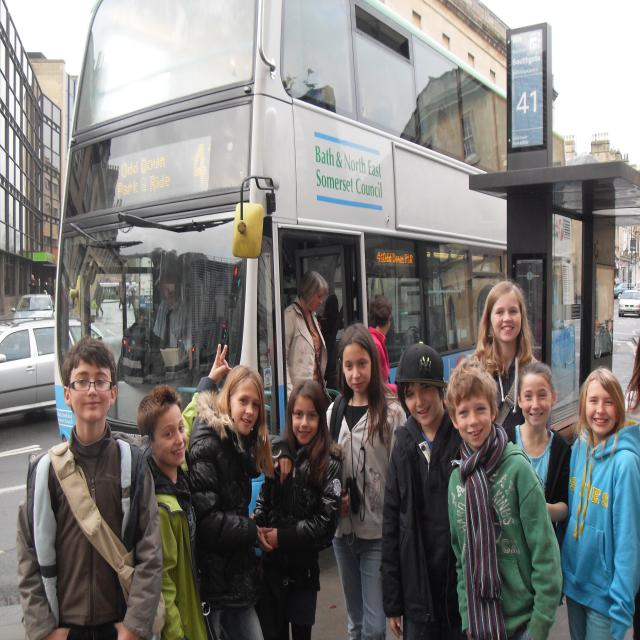body: (15, 335, 168, 640), (444, 356, 562, 640), (135, 342, 233, 640), (321, 320, 411, 640), (250, 377, 348, 640), (183, 363, 275, 640), (381, 343, 464, 638), (557, 364, 640, 640), (502, 362, 571, 536), (468, 279, 542, 430), (182, 254, 245, 368), (284, 269, 331, 403), (153, 273, 195, 371), (368, 294, 398, 396), (623, 321, 640, 434), (318, 284, 343, 332), (419, 271, 440, 318), (93, 280, 104, 316), (127, 280, 136, 310), (29, 274, 38, 294), (45, 278, 55, 296), (118, 282, 122, 308), (614, 274, 620, 284)
